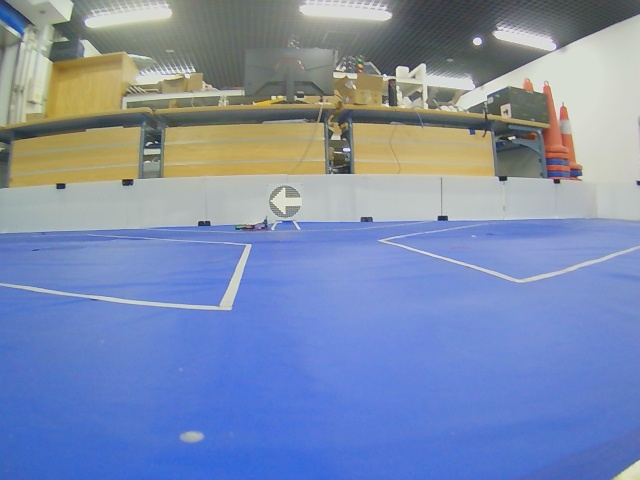left_yellow: (269, 186, 302, 218)
